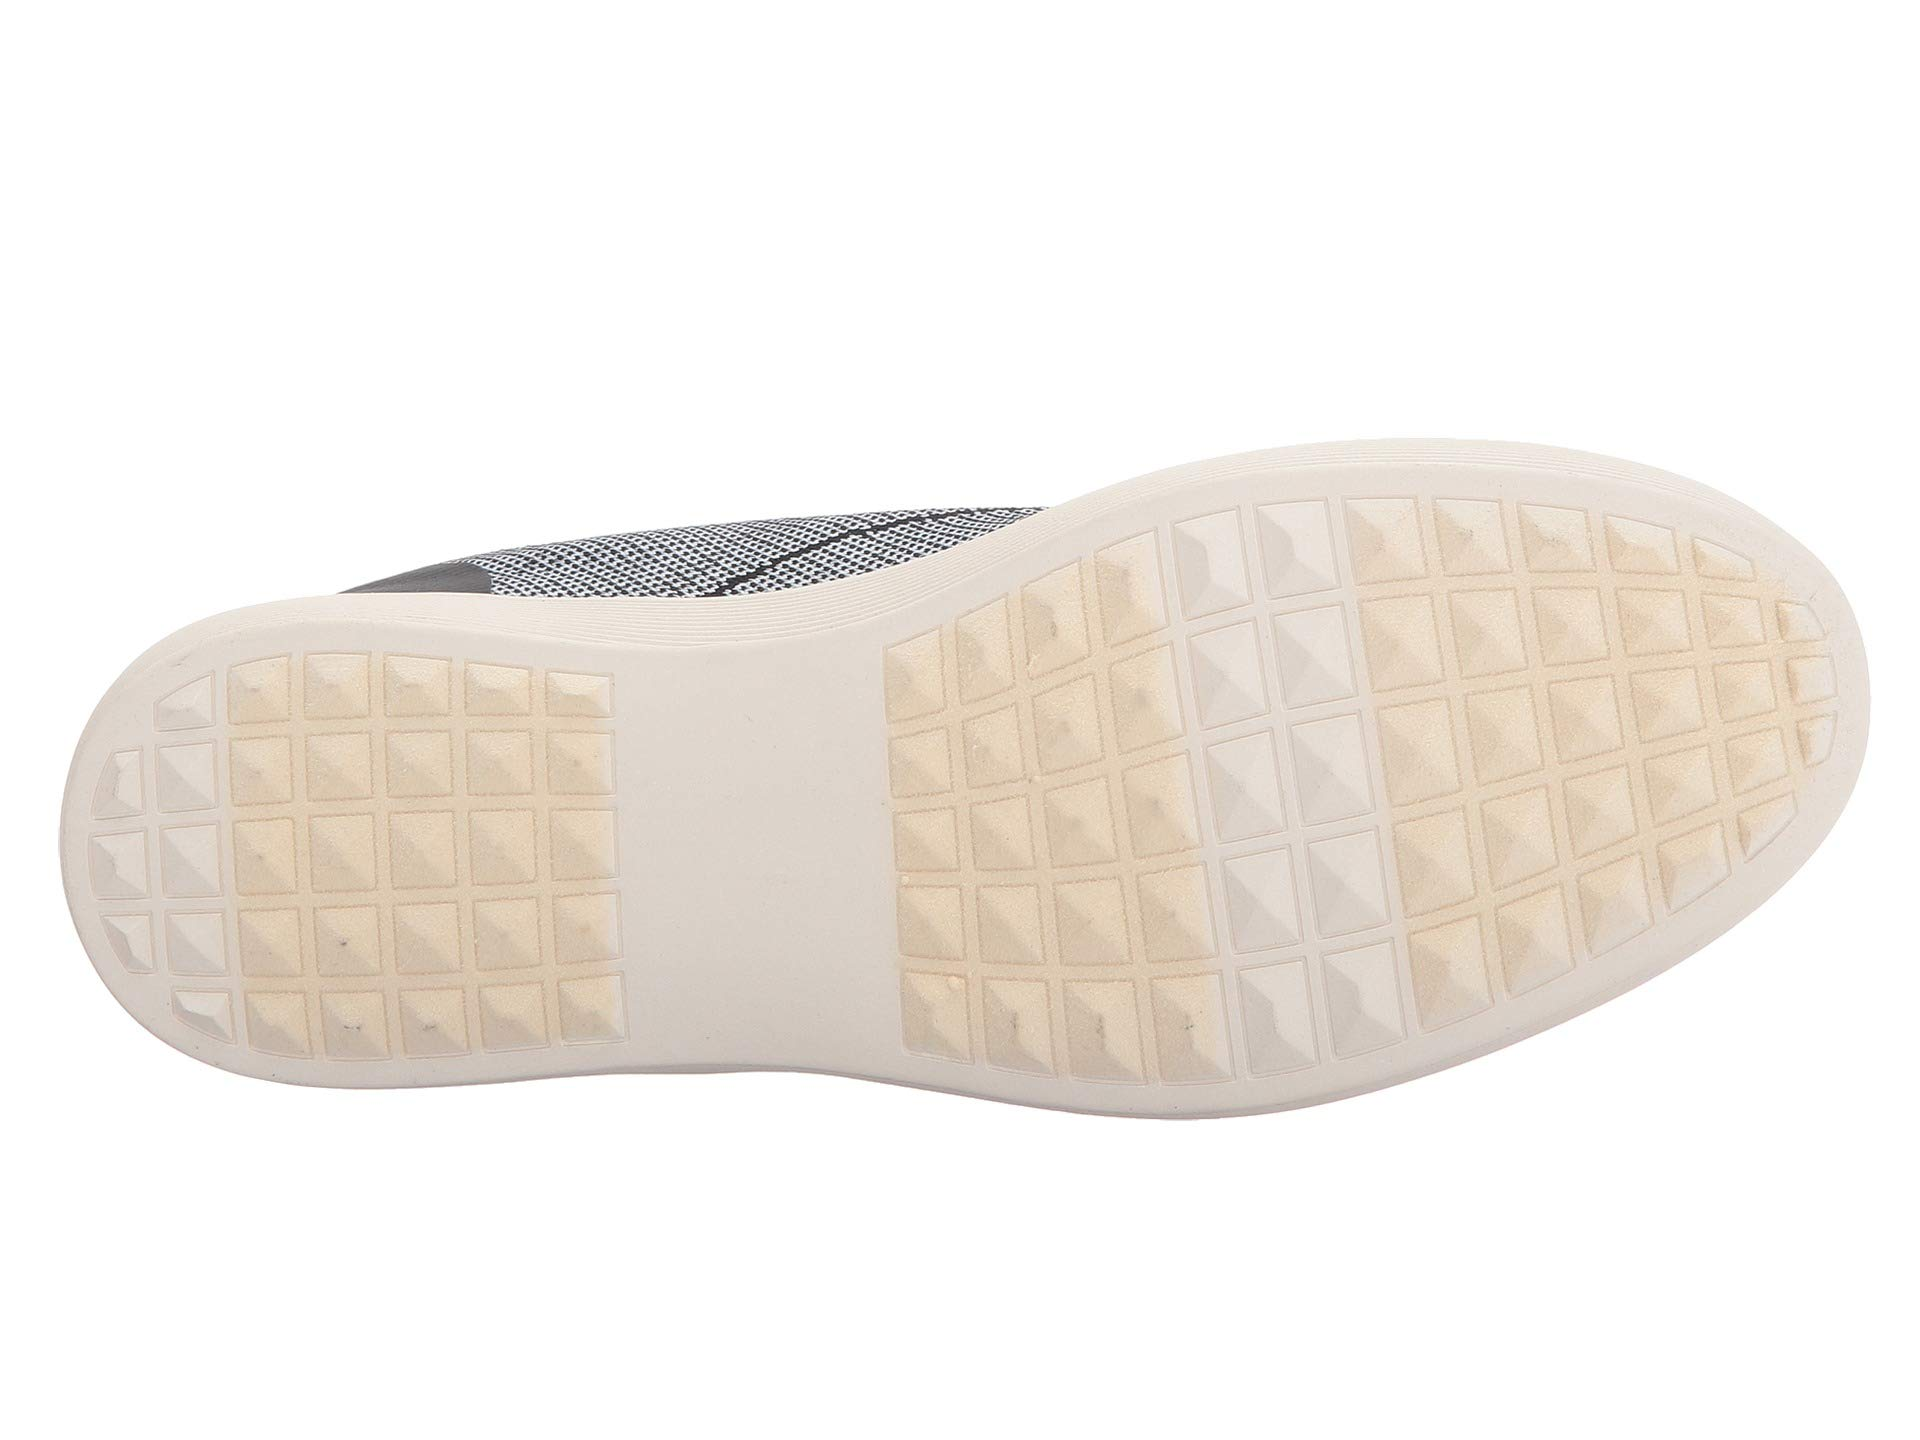quad: (1042, 616, 1463, 983), (268, 714, 683, 1000)
triangle: (1042, 616, 1463, 983), (268, 714, 683, 1000)
